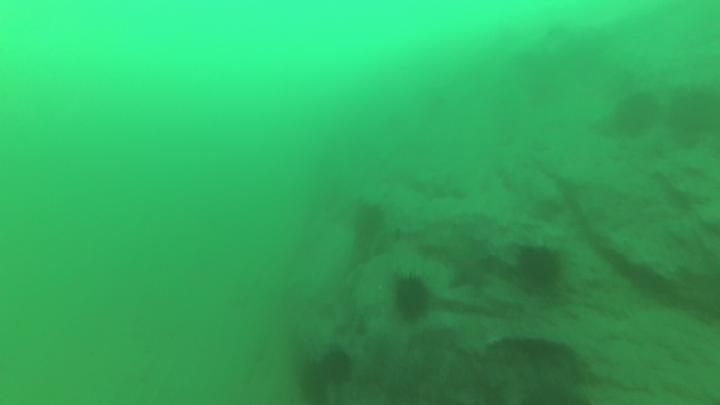echinus: (514, 239, 567, 297), (387, 268, 438, 326), (313, 341, 360, 388), (354, 201, 388, 250)
